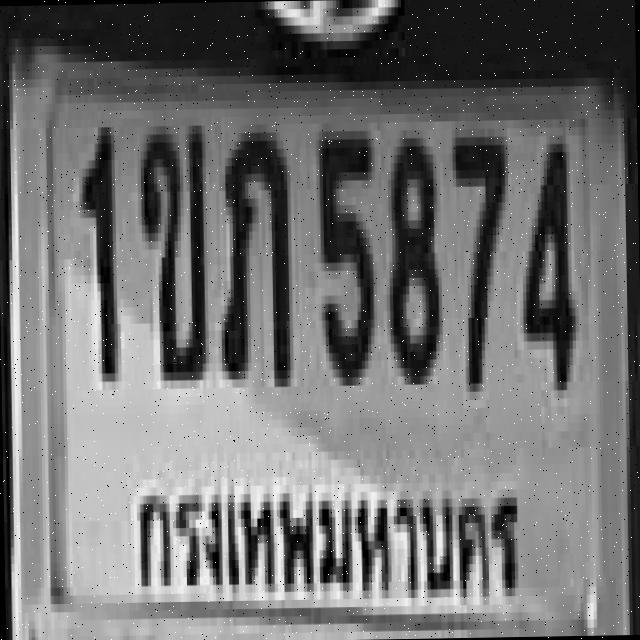1: (78, 119, 114, 374)
11KhorKhai: (136, 116, 205, 372)
4: (517, 131, 573, 378)
41PhorSamPhao: (214, 123, 290, 380)
5: (316, 122, 372, 378)
7: (448, 128, 508, 383)
8: (384, 130, 436, 376)
Bangkok: (118, 462, 540, 634)
